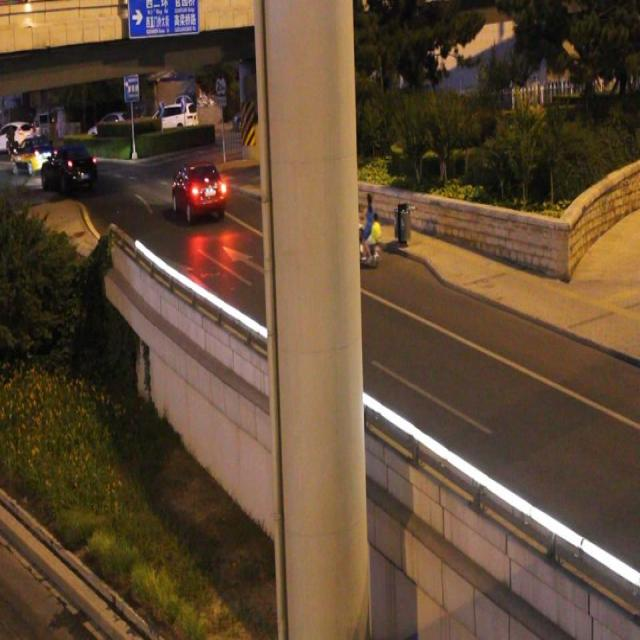car: (172, 160, 226, 222)
